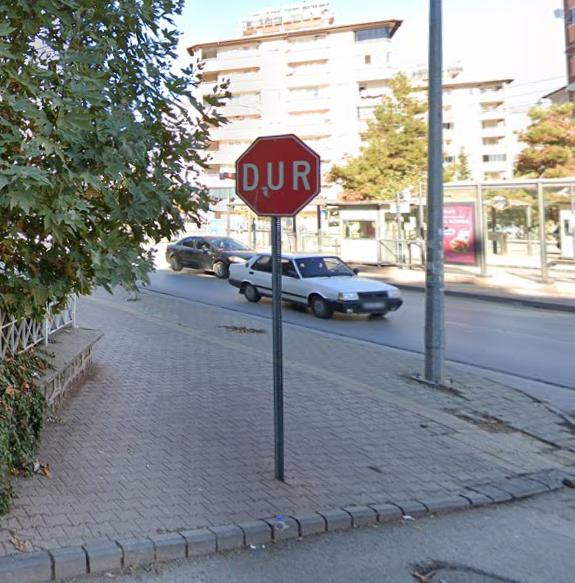stop: (237, 138, 320, 213)
